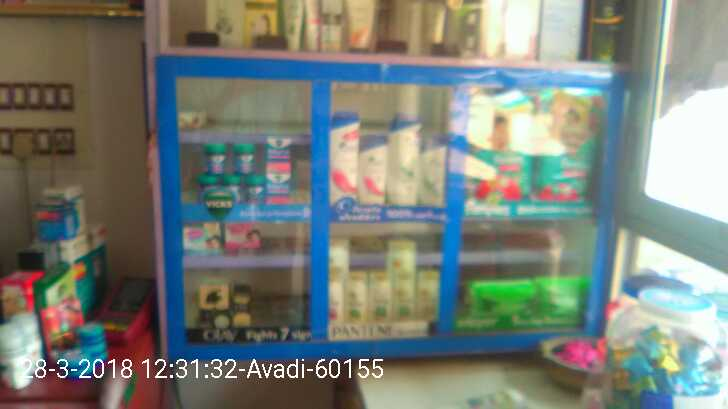vicks: (193, 138, 297, 209)
